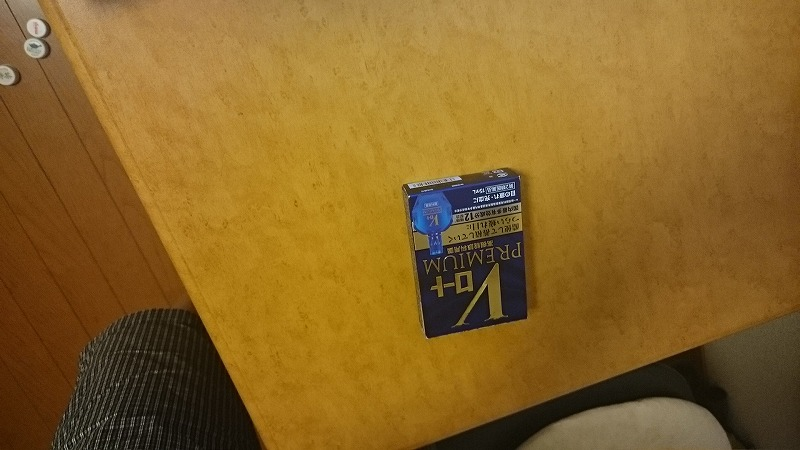D: (399, 164, 533, 343)
